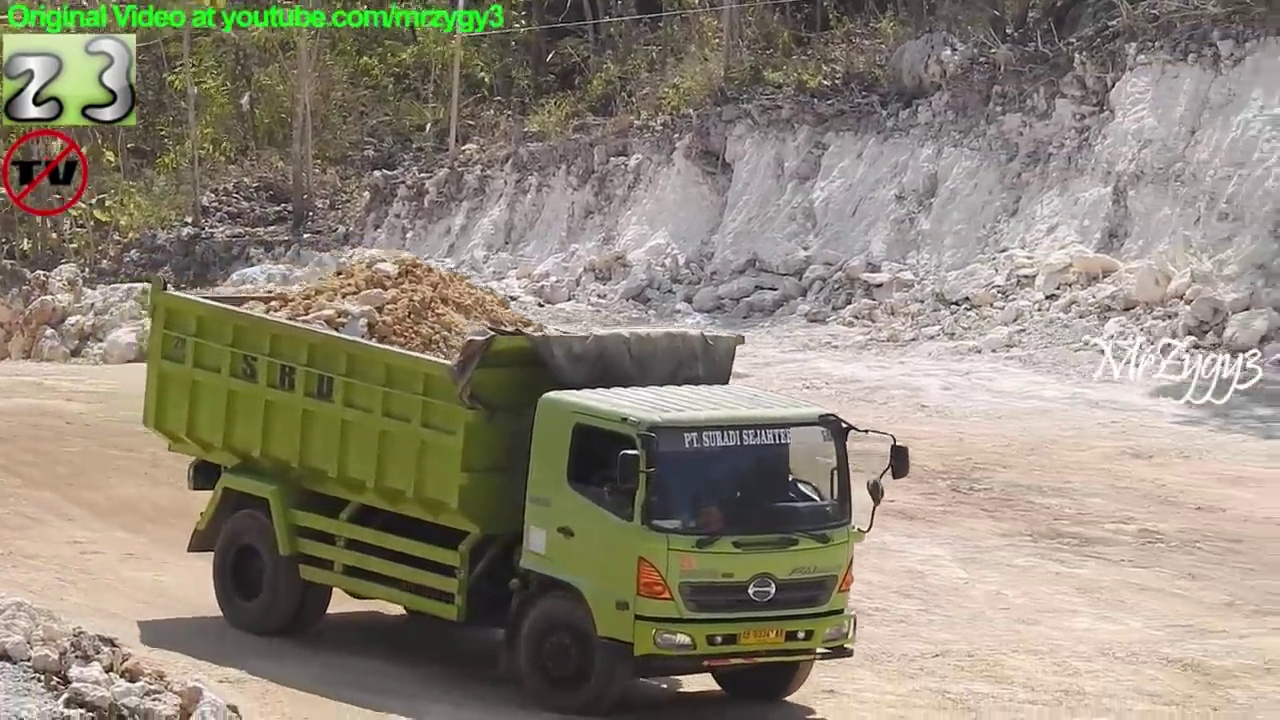truck: (138, 271, 919, 720)
